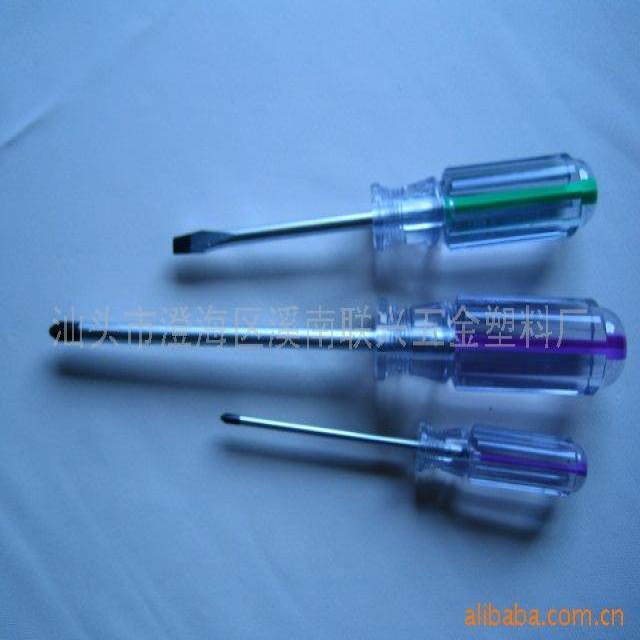screwdriver: (33, 280, 635, 410), (155, 144, 604, 280), (204, 408, 594, 511)
